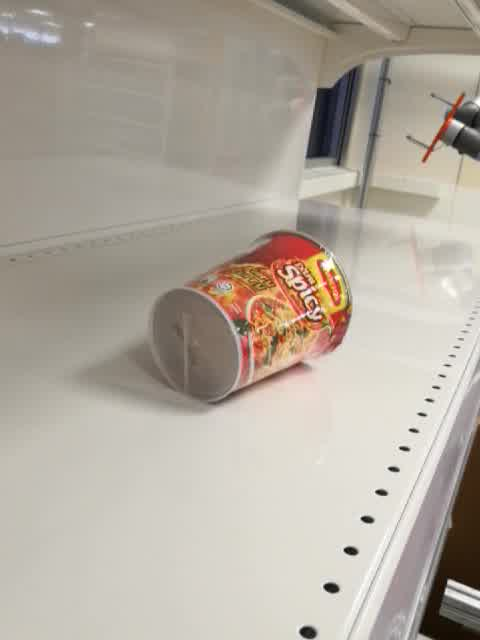maggi: (146, 229, 355, 405)
